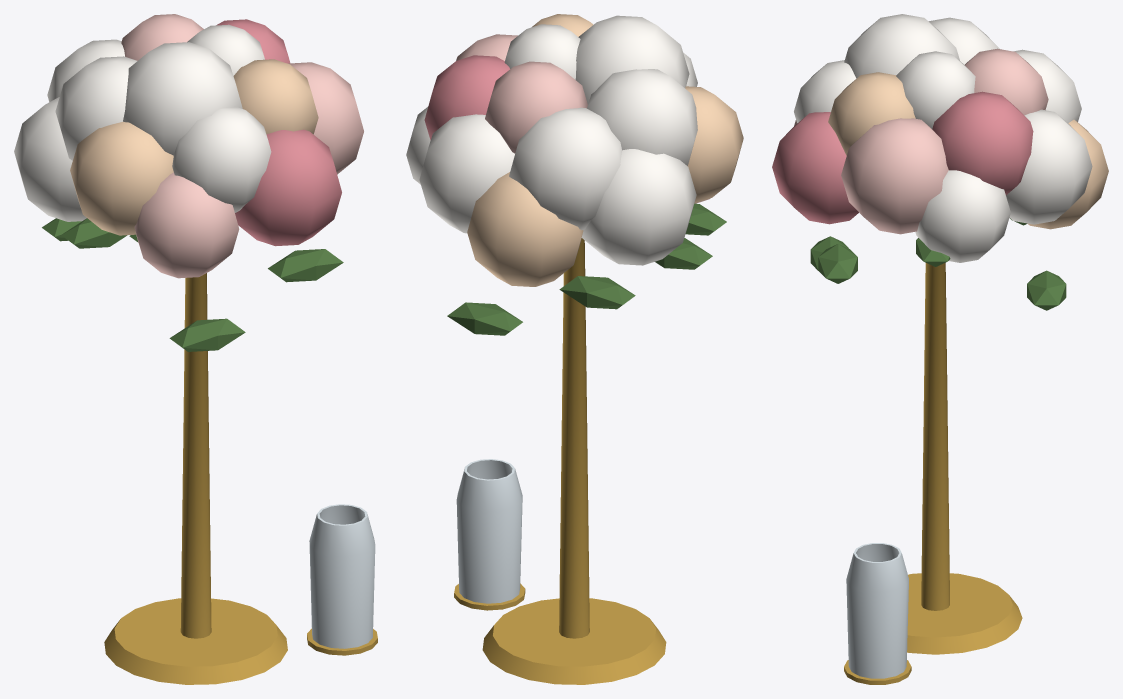
The model's file is aisle-flower.glb.
The picture shows the model from 3 angles, left to right: view 1: azimuth 30°, elevation 25°; view 2: azimuth 150°, elevation 25°; view 3: azimuth 270°, elevation 25°; orthographic projection. The views are drawn at different scales.
Parts seen in each view (by area): view 1: gold0, gold1, crystal26, flowerWhite3, flowerRose13, flowerPeach11, flowerBlush16, flowerWhite8, flowerWhite14, flowerWhite6, flowerPeach5, flowerBlush10 (+8 smaller); view 2: gold0, gold1, flowerWhite14, flowerWhite9, crystal26, flowerPeach17, flowerWhite6, flowerWhite12, flowerWhite3, flowerBlush4, flowerPeach11, flowerRose7 (+9 smaller); view 3: flowerBlush10, gold1, crystal26, flowerRose7, gold0, flowerWhite12, flowerRose13, flowerWhite15, flowerWhite3, flowerPeach5, flowerWhite2, flowerBlush4 (+7 smaller).
Part boxes in pixels (x1=…): gold0: x1=104, y1=598, x2=287, y2=684; gold1: x1=180, y1=273, x2=211, y2=638; crystal26: x1=309, y1=504, x2=375, y2=648; flowerWhite3: x1=123, y1=42, x2=242, y2=155; flowerRose13: x1=235, y1=129, x2=341, y2=246; flowerPeach11: x1=70, y1=122, x2=173, y2=235; flowerBlush16: x1=134, y1=172, x2=239, y2=278; flowerWhite8: x1=172, y1=106, x2=271, y2=212; flowerWhite14: x1=14, y1=97, x2=86, y2=221; flowerWhite6: x1=55, y1=56, x2=137, y2=160; flowerPeach5: x1=233, y1=59, x2=318, y2=134; flowerBlush10: x1=288, y1=62, x2=363, y2=174; gold0: x1=482, y1=598, x2=666, y2=684; gold1: x1=559, y1=238, x2=589, y2=638; flowerWhite14: x1=581, y1=149, x2=696, y2=265; flowerWhite9: x1=509, y1=107, x2=621, y2=230; crystal26: x1=456, y1=459, x2=522, y2=603; flowerPeach17: x1=467, y1=172, x2=583, y2=286; flowerWhite6: x1=587, y1=69, x2=697, y2=165; flowerWhite12: x1=419, y1=114, x2=514, y2=233; flowerWhite3: x1=575, y1=15, x2=689, y2=103; flowerBlush4: x1=485, y1=61, x2=587, y2=153; flowerPeach11: x1=685, y1=86, x2=743, y2=203; flowerRose7: x1=424, y1=55, x2=509, y2=139; flowerBlush10: x1=841, y1=118, x2=948, y2=234; gold1: x1=921, y1=263, x2=949, y2=610; crystal26: x1=846, y1=543, x2=908, y2=678; flowerRose7: x1=932, y1=91, x2=1033, y2=194; gold0: x1=907, y1=573, x2=1022, y2=654; flowerWhite12: x1=1006, y1=109, x2=1092, y2=224; flowerRose13: x1=772, y1=112, x2=858, y2=224; flowerWhite15: x1=915, y1=170, x2=1010, y2=262; flowerWhite3: x1=844, y1=14, x2=959, y2=78; flowerPeach5: x1=828, y1=72, x2=915, y2=155; flowerWhite2: x1=896, y1=51, x2=975, y2=128; flowerBlush4: x1=965, y1=48, x2=1048, y2=115.
Size of the model in its own units: 0.665 by 1.33 by 0.698.
